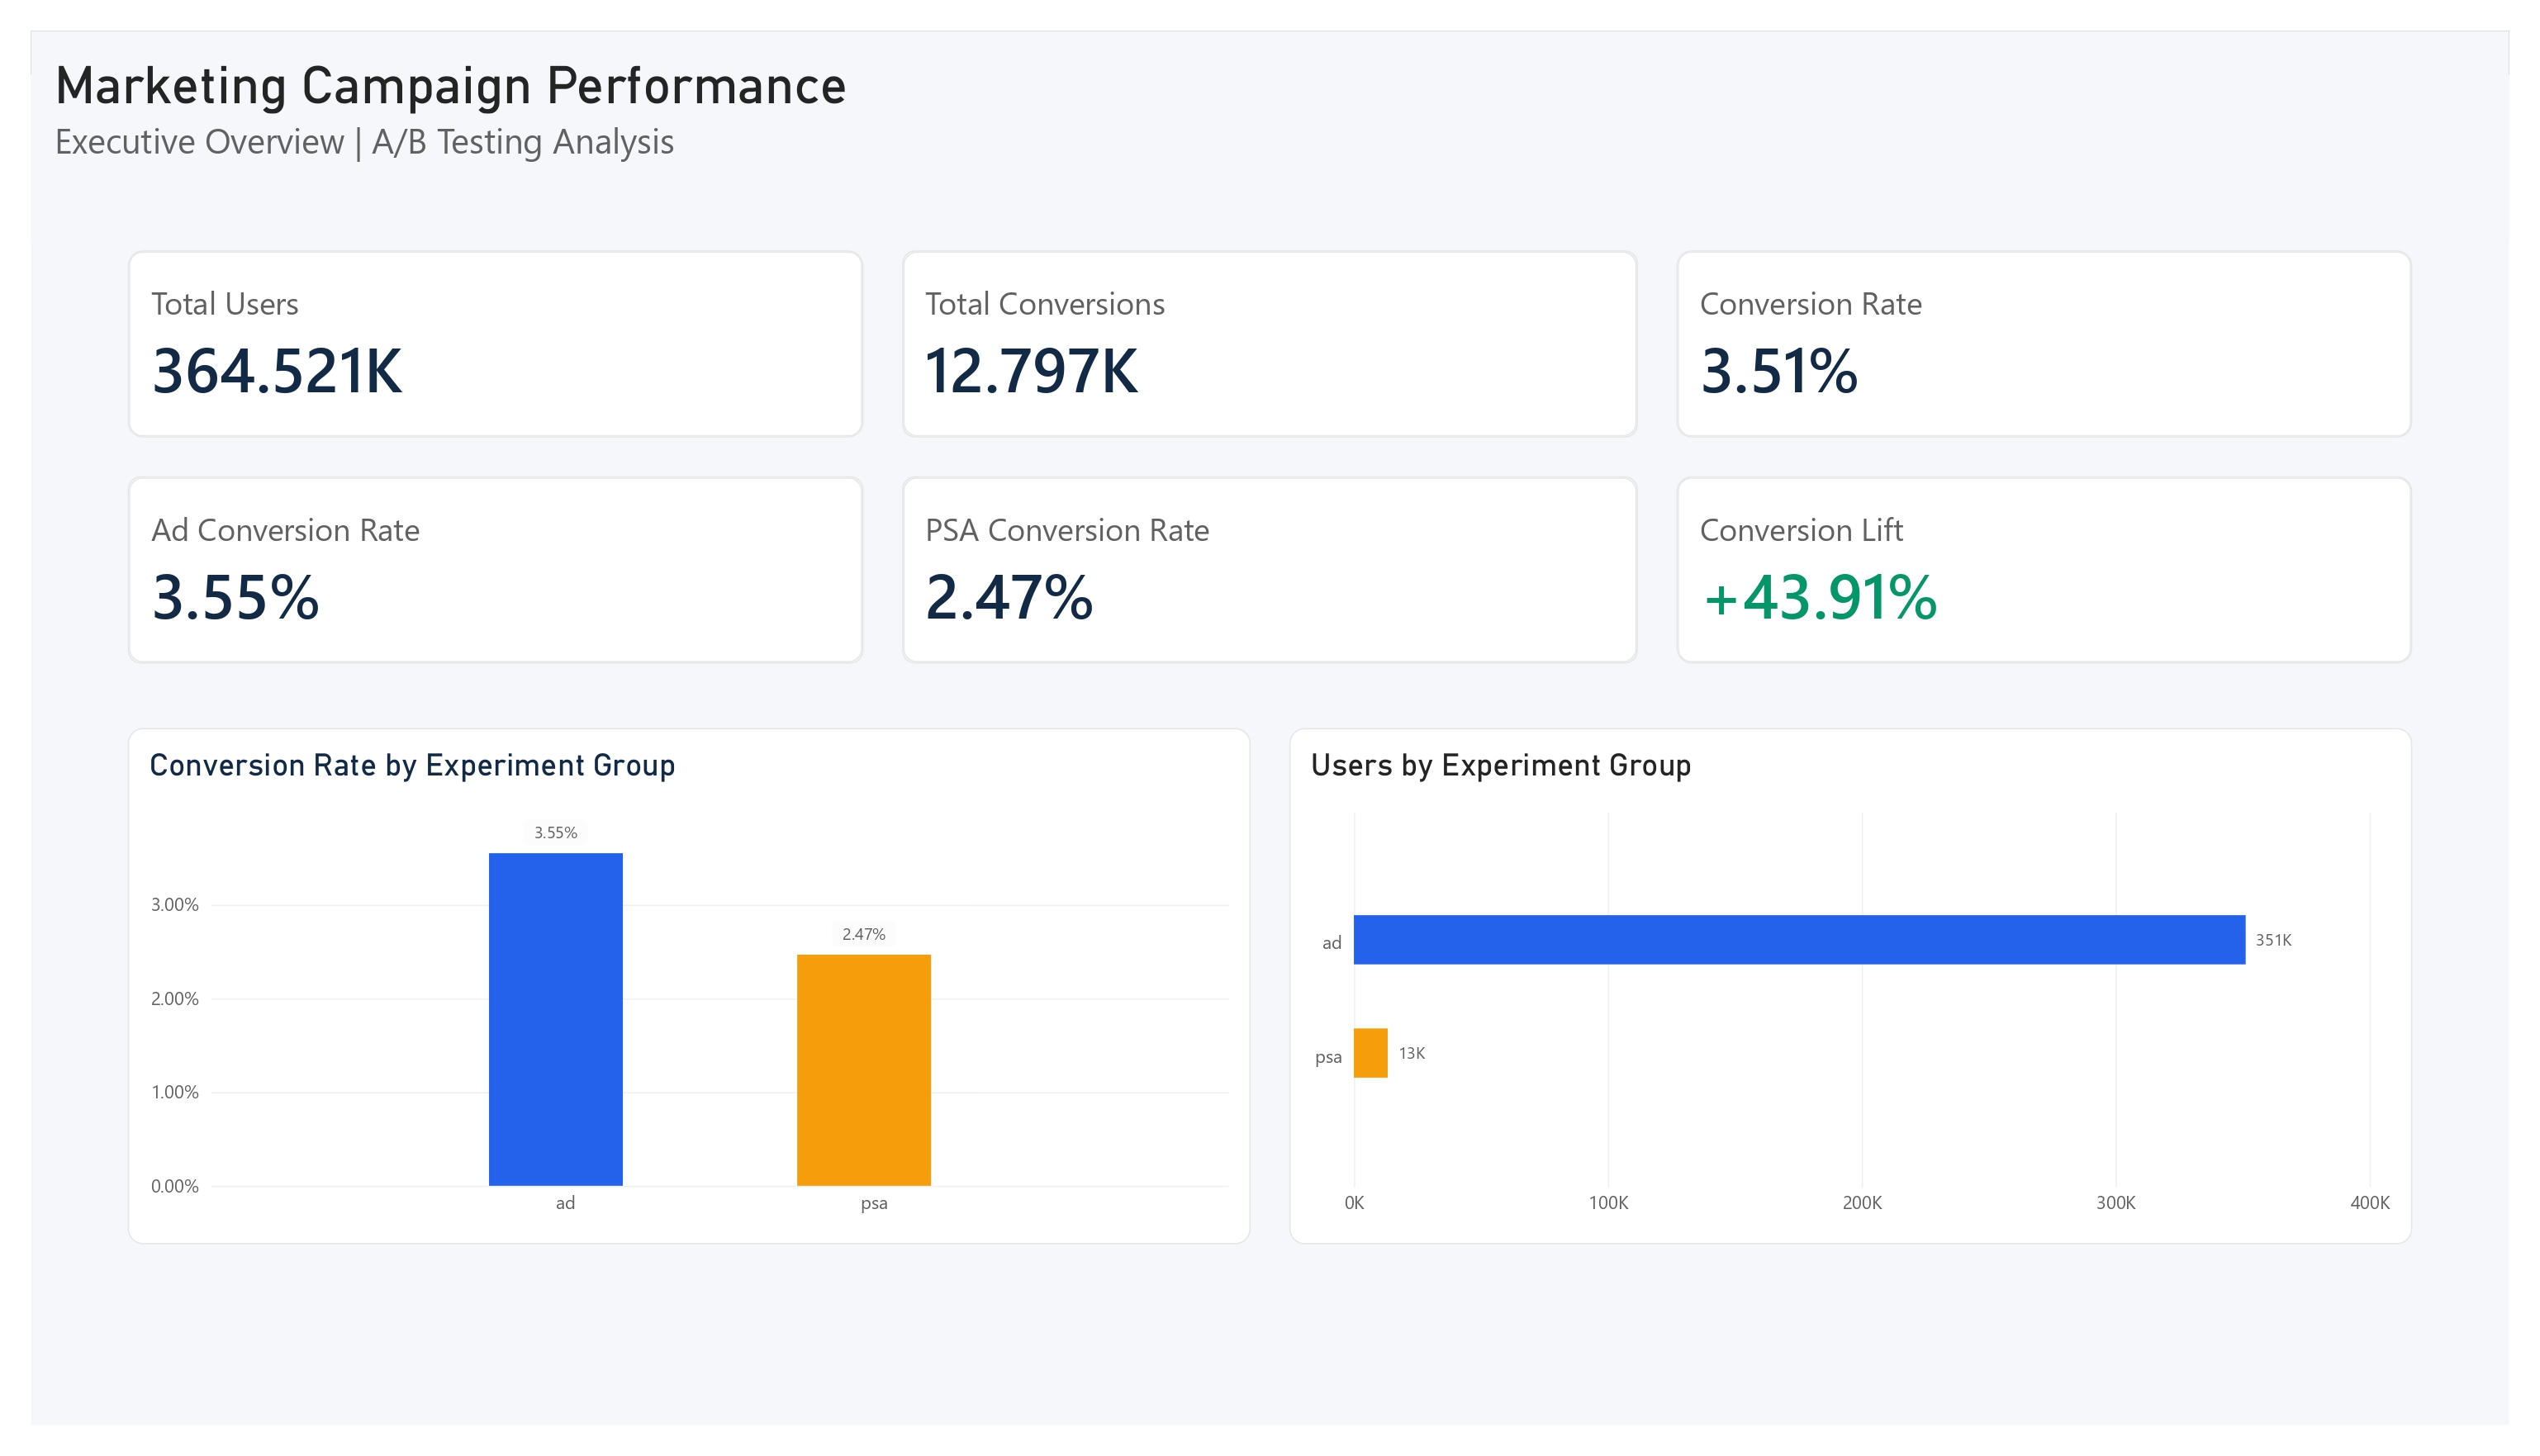

Layout of this report page (visuals, bound fields, positions):
{"tool":"powerbi","page":{"name":"Executive Overview","canvas":[1920,1080],"ordinal":0},"visuals":[{"type":"cardVisual","fields":{"Data":["marketing_campaign.Total Users"]},"box":[75,170,570,145],"z":0},{"type":"cardVisual","fields":{"Data":["marketing_campaign.Total Conversions"]},"box":[675,170,570,145],"z":1000},{"type":"cardVisual","fields":{"Data":["marketing_campaign.Conversion Rate"]},"box":[1275,170,570,145],"z":2000},{"type":"cardVisual","fields":{"Data":["marketing_campaign.PSA Conversion Rate"]},"box":[675,345,570,145],"z":3000},{"type":"cardVisual","fields":{"Data":["marketing_campaign.Ad Conversion Rate"]},"box":[75,345,570,145],"z":4000},{"type":"cardVisual","fields":{"Data":["marketing_campaign.Conversion Lift"]},"box":[1275,345,570,145],"z":5000},{"type":"textbox","title":"Marketing Campaign Performance","box":[17.5,17.5,1885,135],"z":6000},{"type":"clusteredColumnChart","title":"Conversion Rate by Experiment Group","fields":{"Category":["marketing_campaign.test_group"],"Y":["marketing_campaign.Conversion Rate"]},"box":[75,540,870,400],"z":7000},{"type":"clusteredBarChart","title":"Users by Experiment Group","fields":{"Category":["marketing_campaign.test_group"],"Y":["marketing_campaign.Total Users"]},"box":[975,540,870,400],"z":8000}]}

Visuals, with their boxes on the page's 1920x1080 design canvas (x1, y1, x2, y2). These are canvas units, not pixel positions in the 2540x1456 screenshot, which may show the page scaled, cropped or inside an application window:
cardVisual - marketing_campaign.Total Users: box=[75, 170, 645, 315]
cardVisual - marketing_campaign.Total Conversions: box=[675, 170, 1245, 315]
cardVisual - marketing_campaign.Conversion Rate: box=[1275, 170, 1845, 315]
cardVisual - marketing_campaign.PSA Conversion Rate: box=[675, 345, 1245, 490]
cardVisual - marketing_campaign.Ad Conversion Rate: box=[75, 345, 645, 490]
cardVisual - marketing_campaign.Conversion Lift: box=[1275, 345, 1845, 490]
"Marketing Campaign Performance" textbox: box=[18, 18, 1902, 152]
"Conversion Rate by Experiment Group" clusteredColumnChart: box=[75, 540, 945, 940]
"Users by Experiment Group" clusteredBarChart: box=[975, 540, 1845, 940]
